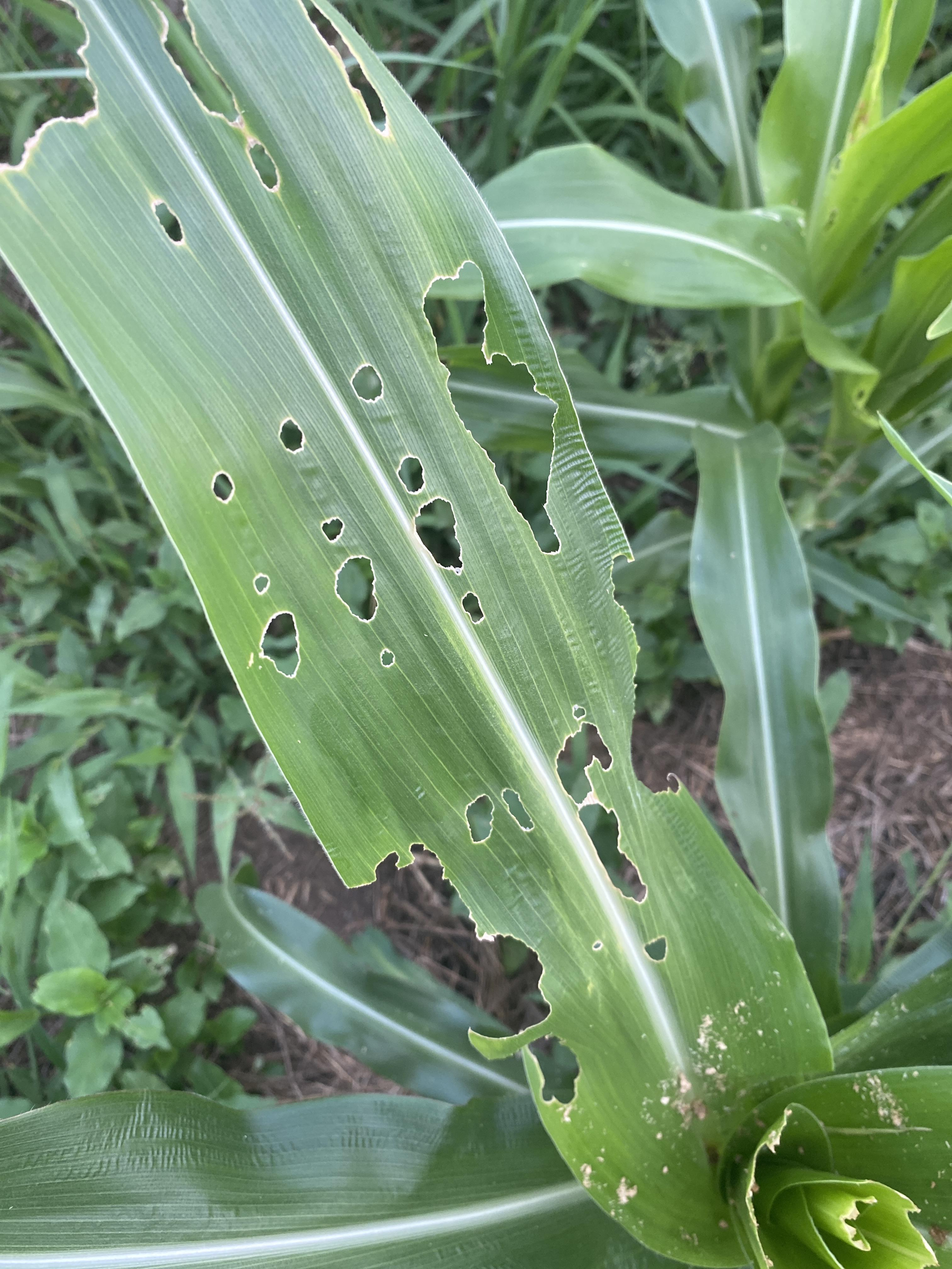early_to_moderate: (644, 996, 751, 1139), (852, 1074, 914, 1131)
severe: (155, 182, 660, 740), (362, 642, 769, 1127), (0, 0, 425, 341), (803, 1174, 940, 1269)
